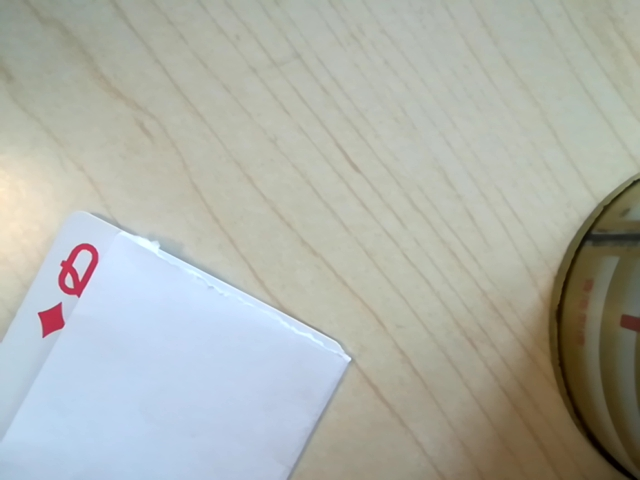fk q: (31, 235, 108, 343)
